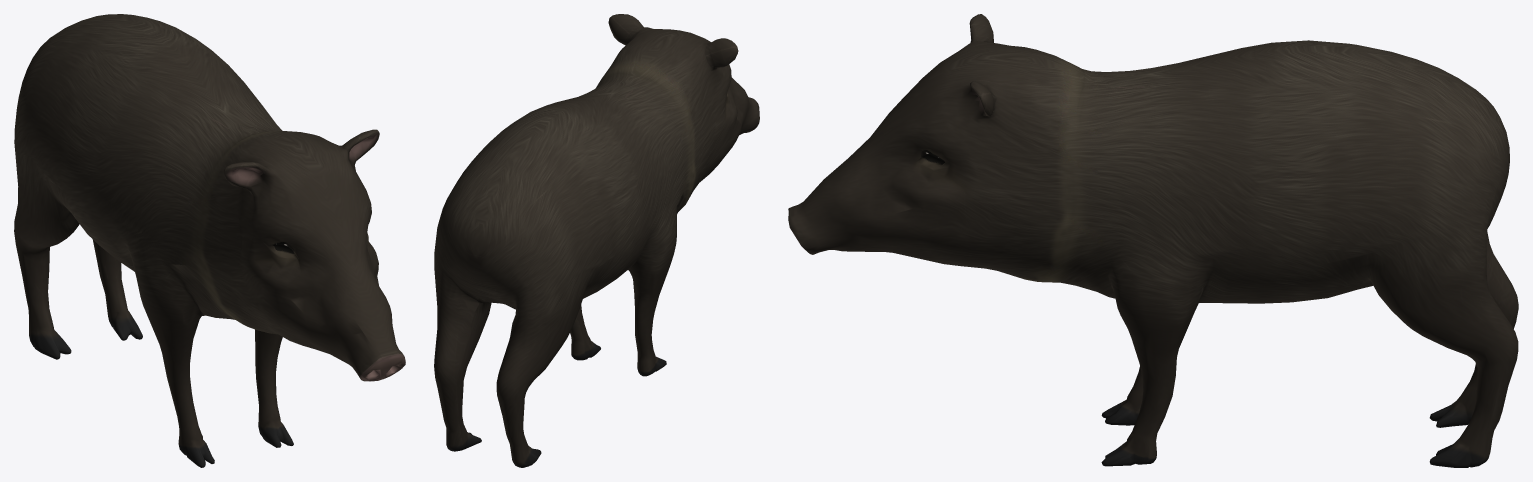
Rendered from Saino.glb.
3 renders of one model, left to right at view 1: azimuth 30°, elevation 25°; view 2: azimuth 150°, elevation 25°; view 3: azimuth 270°, elevation 25°, orthographic. The views are drawn at different scales.
Visible parts, largest first — view 1: CollaredPeccary; view 2: CollaredPeccary; view 3: CollaredPeccary.
Boxes of the visible parts, <box> form: CollaredPeccary: <box>14,14,405,467</box>; CollaredPeccary: <box>434,14,759,467</box>; CollaredPeccary: <box>788,14,1518,467</box>.
Size of the model in its own units: 1.13 by 2.22 by 3.72.
Materials: 1 (1 with a texture image).
